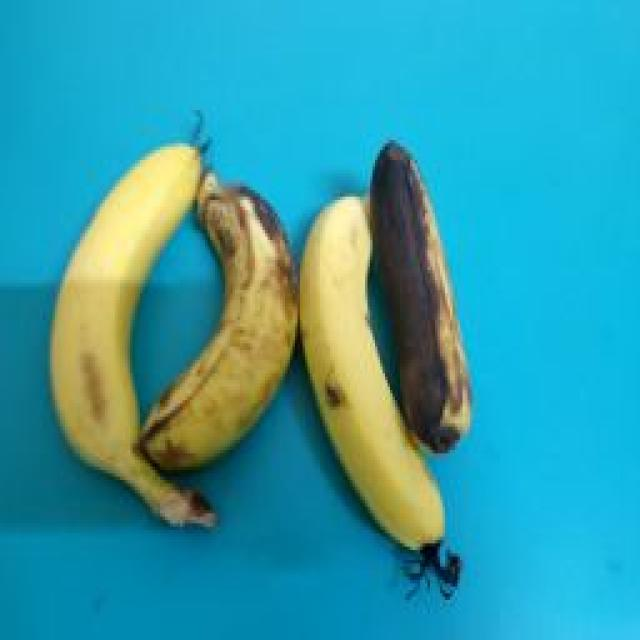Organik: (37, 105, 205, 533), (291, 163, 445, 573), (152, 156, 308, 474), (349, 130, 485, 472)
